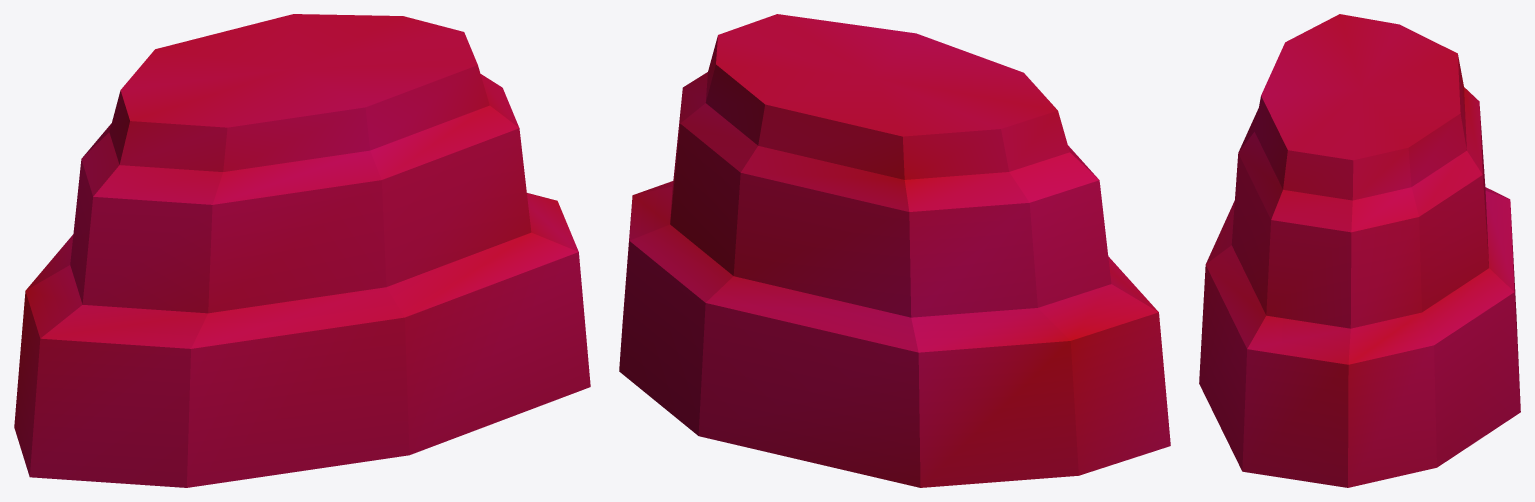
File: Mesa_Back_01.glb
The picture shows the model from 3 angles, left to right: view 1: azimuth 30°, elevation 25°; view 2: azimuth 150°, elevation 25°; view 3: azimuth 270°, elevation 25°; orthographic projection. The views are drawn at different scales.
Visible parts, largest first — view 1: Mesa_Back_01; view 2: Mesa_Back_01; view 3: Mesa_Back_01.
Part boxes in pixels (left/top/right/bottom): Mesa_Back_01: left=14, top=14, right=590, bottom=487; Mesa_Back_01: left=619, top=14, right=1170, bottom=487; Mesa_Back_01: left=1199, top=14, right=1520, bottom=487.
Bounding box in the file's own units: 51.62 × 29.01 × 29.75.
